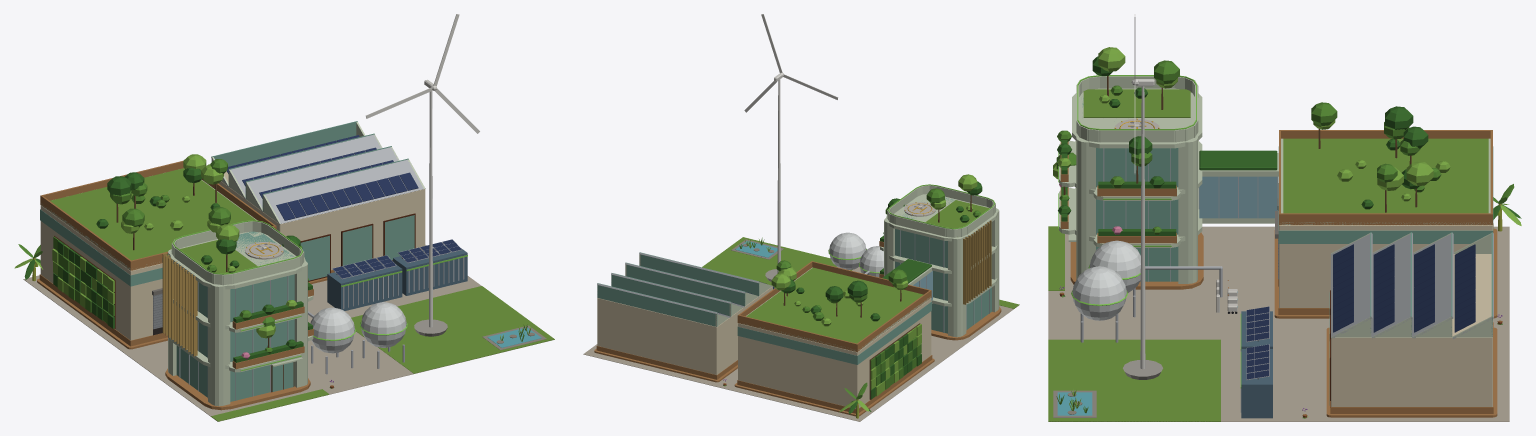
Rendered from factory_4.glb.
The picture shows the model from 3 angles, left to right: view 1: azimuth 30°, elevation 25°; view 2: azimuth 150°, elevation 25°; view 3: azimuth 270°, elevation 25°; orthographic projection. The views are drawn at different scales.
Visible parts, largest first — view 1: body, windows; view 2: body, windows; view 3: body, windows.
Boxes of the visible parts, x1,y1,x2,y2 form: body: [14, 14, 554, 421]; windows: [153, 220, 467, 371]; body: [583, 14, 1019, 421]; windows: [828, 184, 995, 273]; body: [1048, 14, 1521, 421]; windows: [1058, 75, 1278, 388].
Bounding box in the file's own units: 32.87 × 28.61 × 32.74.
